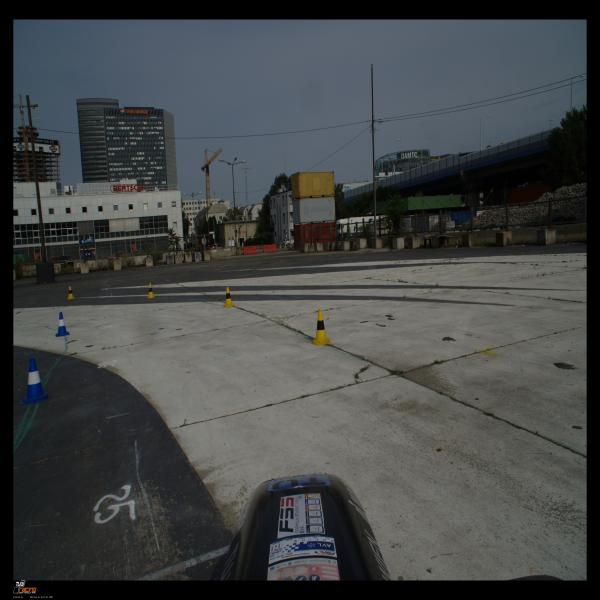blue_cone: (19, 359, 51, 405), (55, 312, 70, 337)
yellow_cone: (311, 310, 332, 346), (223, 287, 235, 308), (146, 284, 156, 298), (66, 286, 76, 299)
